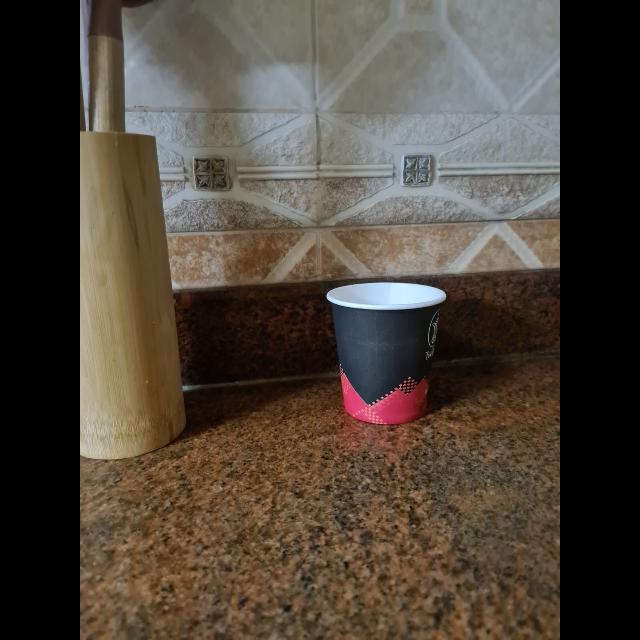trash: (324, 280, 452, 424)
